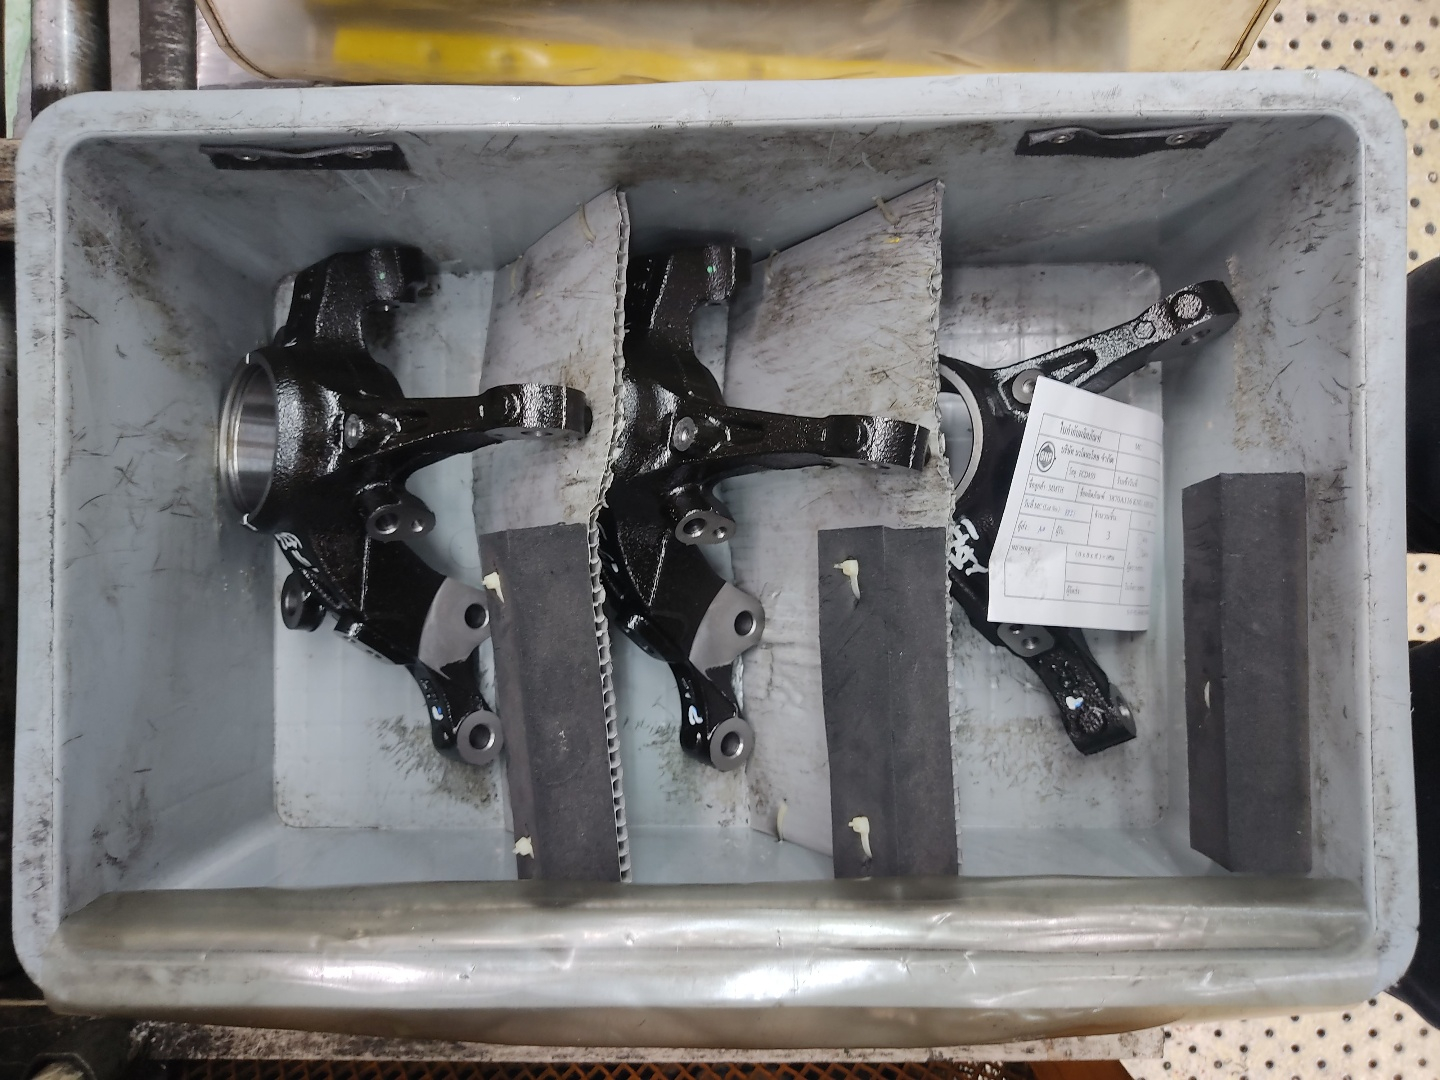abs-rh: (212, 235, 596, 774), (599, 233, 932, 774), (929, 235, 1251, 770)
